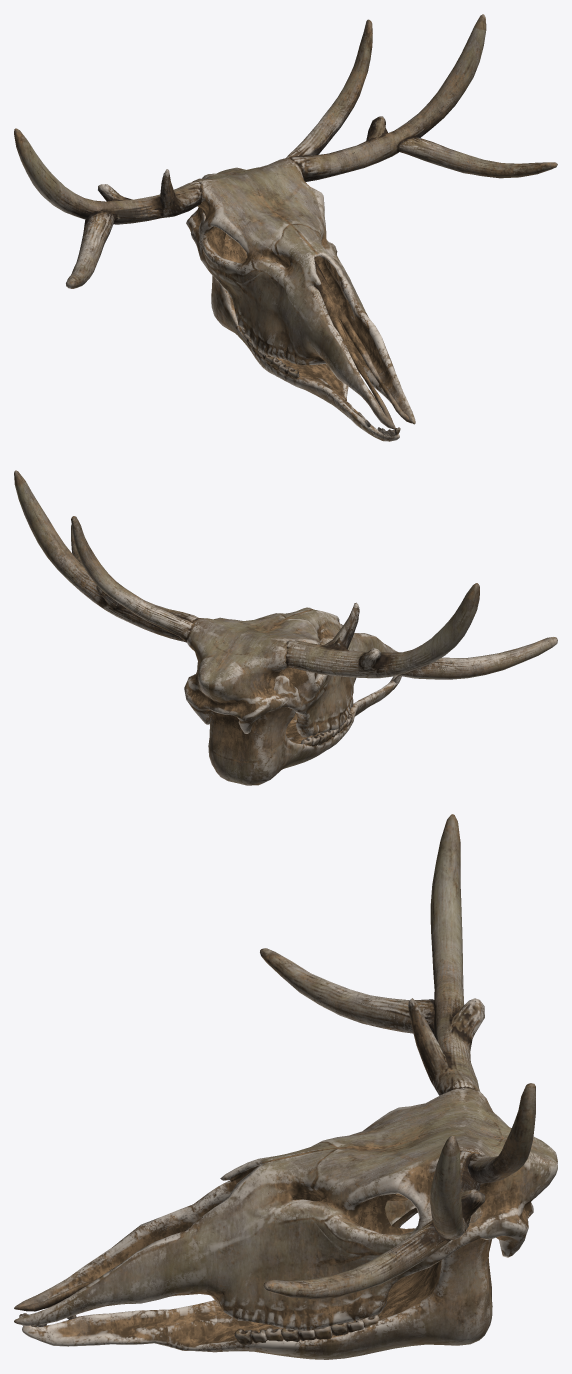
Rendered from skull_elk.glb.
3 views of the same model, one above another, from view 1: azimuth 30°, elevation 25°; view 2: azimuth 150°, elevation 25°; view 3: azimuth 270°, elevation 25° (orthographic). The views are drawn at different scales.
Parts seen in each view (by area): view 1: Retopo_PolySphere2, Retopo_PolySphere1_2.001, Retopo_Elk1, Retopo_PolySphere1_8, Retopo_PolySphere1_3, Retopo_PolySphere1; view 2: Retopo_PolySphere2, Retopo_PolySphere1_2.001, Retopo_PolySphere1_8, Retopo_PolySphere1_3, Retopo_Elk1; view 3: Retopo_PolySphere2, Retopo_PolySphere1_8, Retopo_PolySphere1_2.001, Retopo_Elk1, Retopo_PolySphere1_3.
Part boxes in pixels (<box>): Retopo_PolySphere2: <box>186,158,415,429</box>; Retopo_PolySphere1_2.001: <box>14,14,486,224</box>; Retopo_Elk1: <box>66,137,557,288</box>; Retopo_PolySphere1_8: <box>198,212,399,441</box>; Retopo_PolySphere1_3: <box>286,19,372,158</box>; Retopo_PolySphere1: <box>314,260,411,423</box>; Retopo_PolySphere2: <box>184,607,398,737</box>; Retopo_PolySphere1_2.001: <box>14,470,479,678</box>; Retopo_PolySphere1_8: <box>197,662,400,785</box>; Retopo_PolySphere1_3: <box>71,516,193,642</box>; Retopo_Elk1: <box>71,525,557,679</box>; Retopo_PolySphere2: <box>14,1087,557,1330</box>; Retopo_PolySphere1_8: <box>22,1207,492,1359</box>; Retopo_PolySphere1_2.001: <box>408,814,485,1239</box>; Retopo_Elk1: <box>260,948,450,1299</box>; Retopo_PolySphere1_3: <box>467,1083,535,1182</box>.
Bounding box in the file's own units: 1.54 × 0.8036 × 1.05.
Materials: 1 (1 with a texture image).
